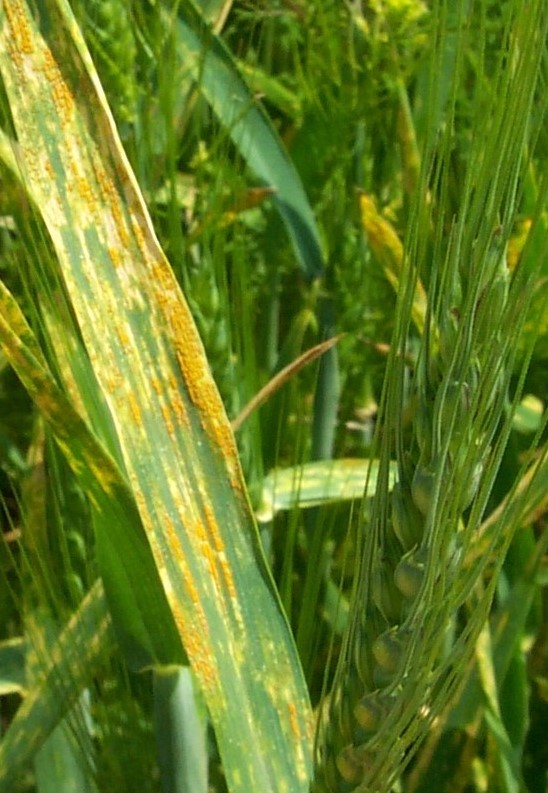Leaf Rust: (28, 123, 247, 591)
